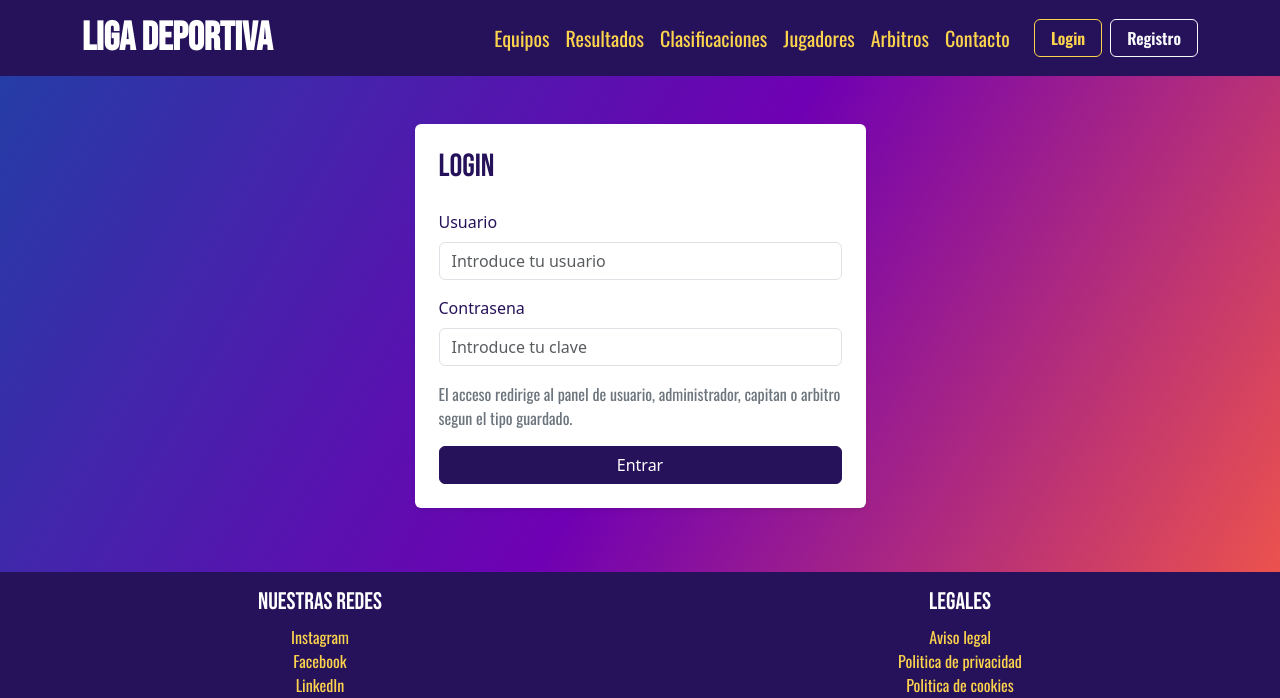
Test case: Jugadores › muestra un error controlado si el login de administrador falla
In the field with id "username": (641, 261) [439,242,842,280], type "admin"
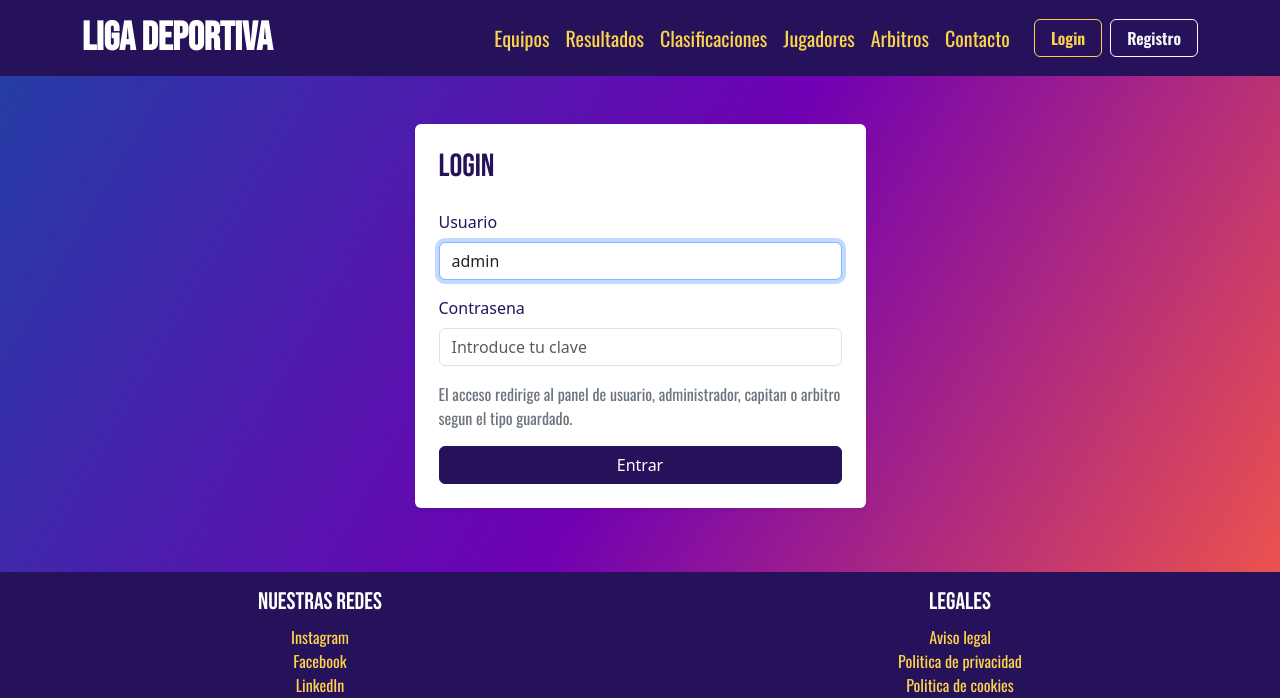
In the password field labelled "Contrasena": (641, 347) [439,328,842,366], type "clave-incorrecta"
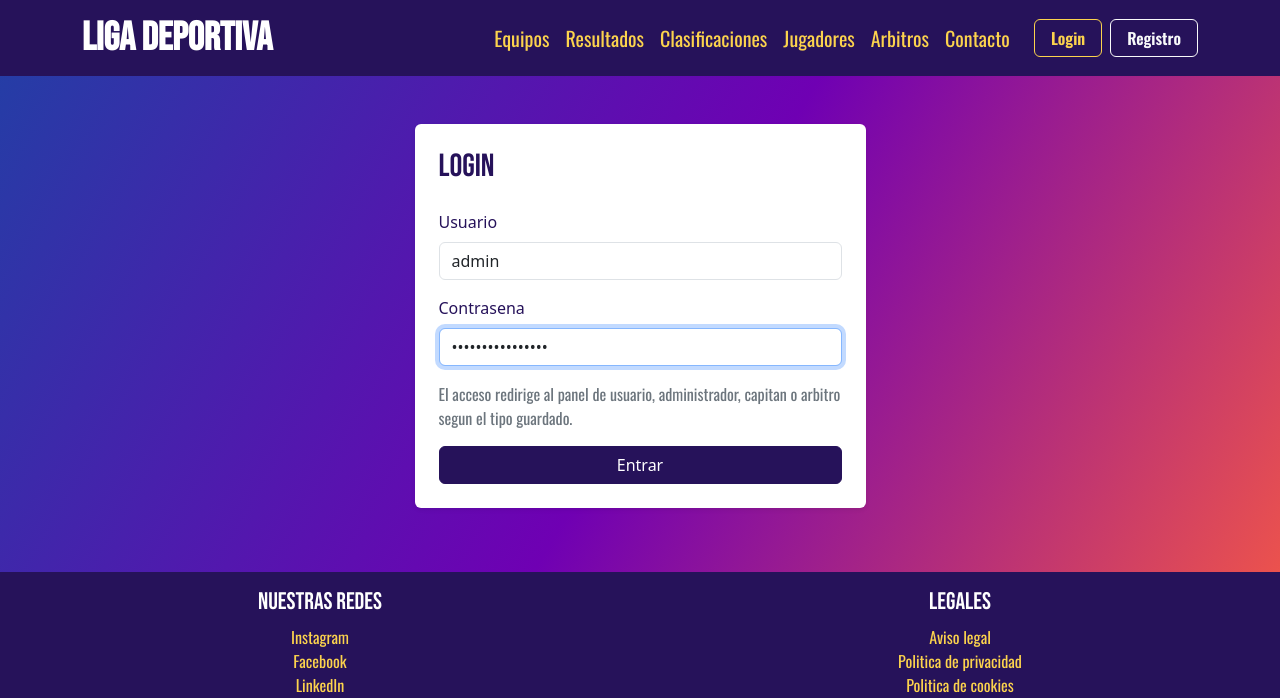
Click the button "Entrar": (641, 465) [439,446,842,484]
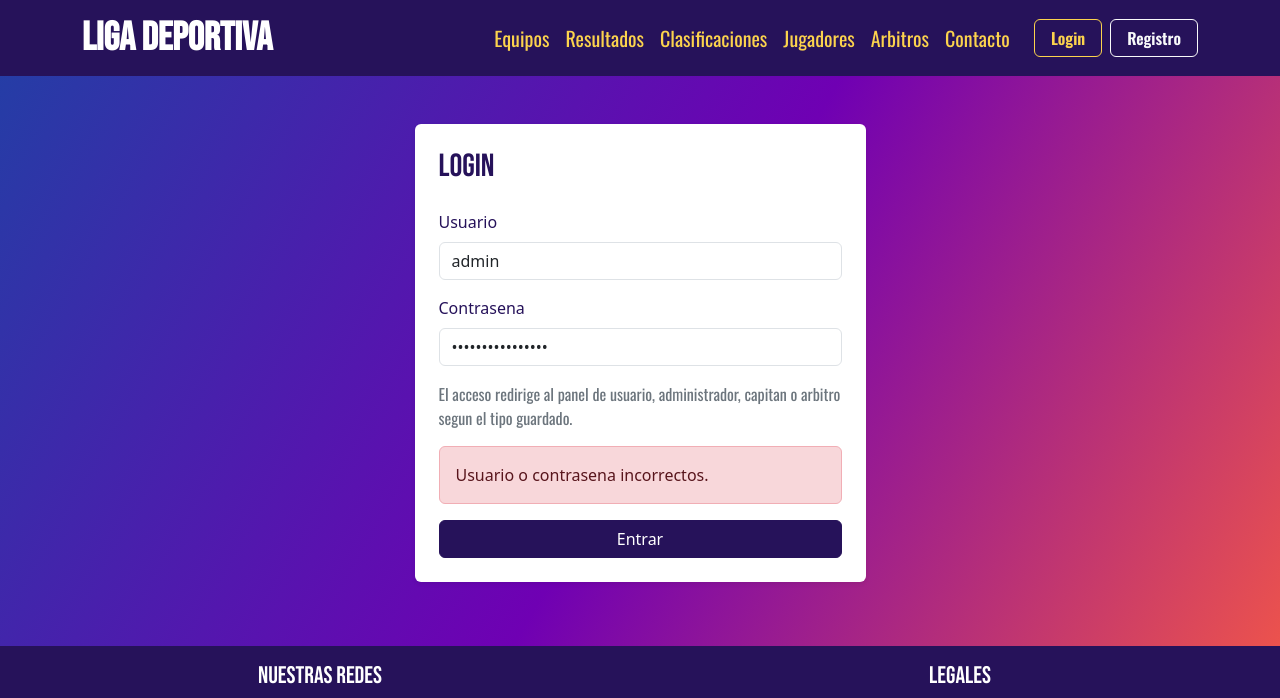
Expected: the message "Usuario o contrasena incorrectos." is shown, [438,446,842,504]
